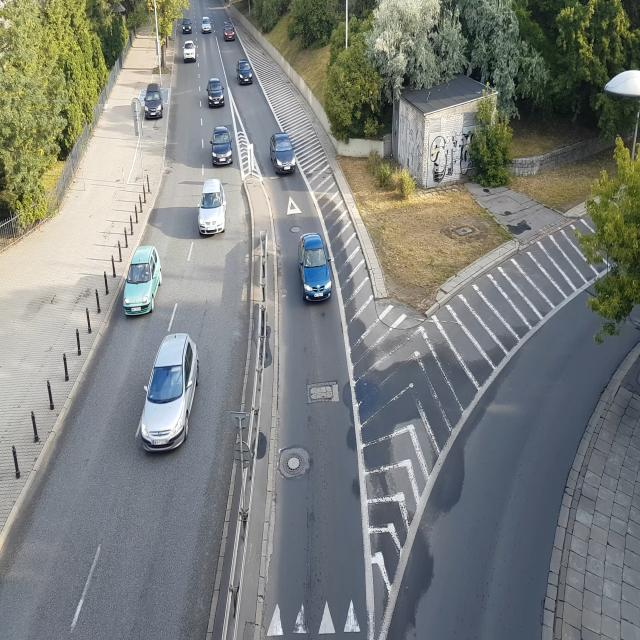car: (136, 330, 208, 456), (122, 245, 162, 318), (299, 233, 335, 302), (199, 179, 227, 236), (271, 135, 297, 176), (212, 127, 234, 168), (143, 85, 165, 119), (207, 78, 227, 108), (236, 60, 253, 83), (184, 44, 199, 64), (224, 23, 237, 41), (200, 20, 212, 34), (181, 21, 193, 34)
